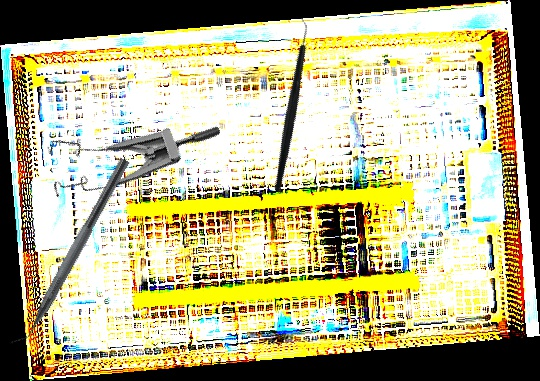Chopper: (215, 14, 363, 194), (5, 150, 131, 354)
Speculum: (30, 62, 223, 227)
